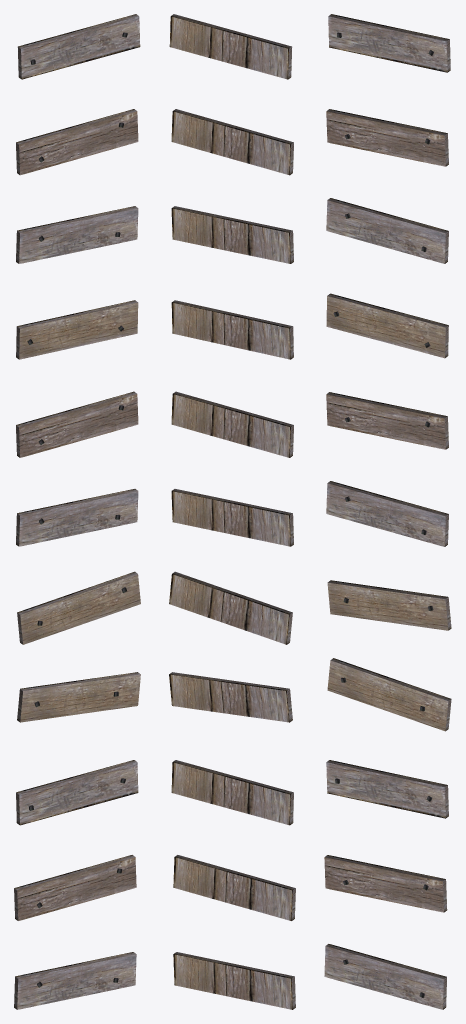
Rendered from westladder2.fbx.
The picture shows the model from 3 angles, left to right: view 1: azimuth 30°, elevation 25°; view 2: azimuth 150°, elevation 25°; view 3: azimuth 330°, elevation 25°; orthographic projection.
Parts seen in each view (by area): view 1: westladder2; view 2: westladder2; view 3: westladder2.
Part boxes in pixels (x1,y1,x2,y2): westladder2: [14, 14, 140, 1009]; westladder2: [169, 14, 295, 1009]; westladder2: [324, 14, 451, 1009].
Size of the model in its own units: 6691 by 50005 by 400.
